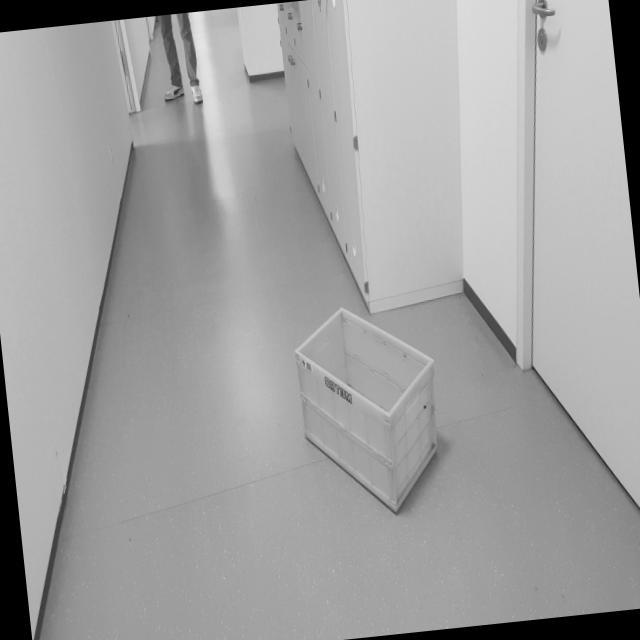box: (286, 277, 452, 532)
